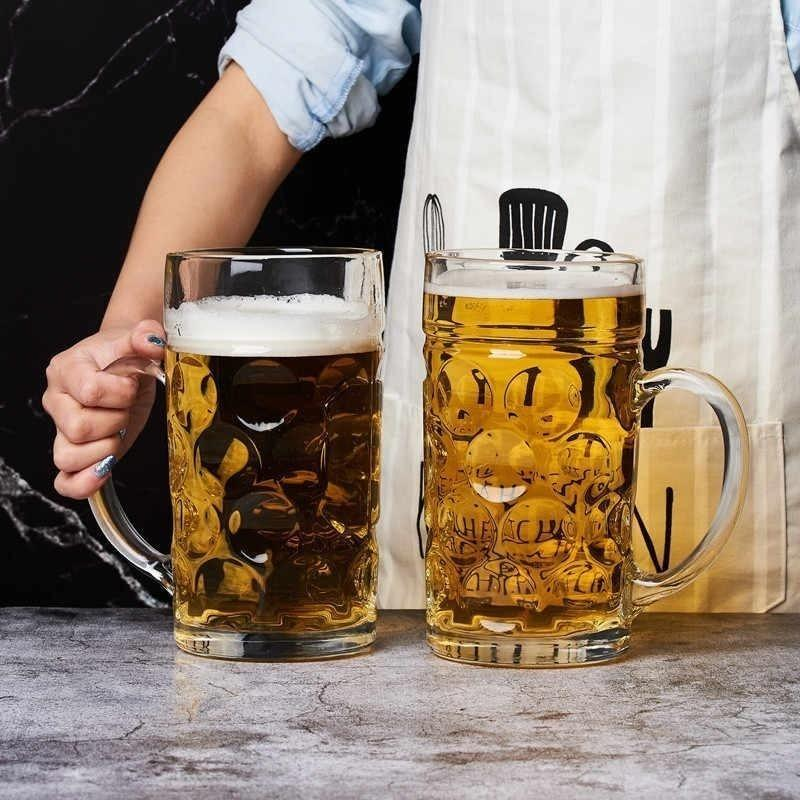glass-mug: (413, 241, 759, 676), (73, 241, 396, 669)
